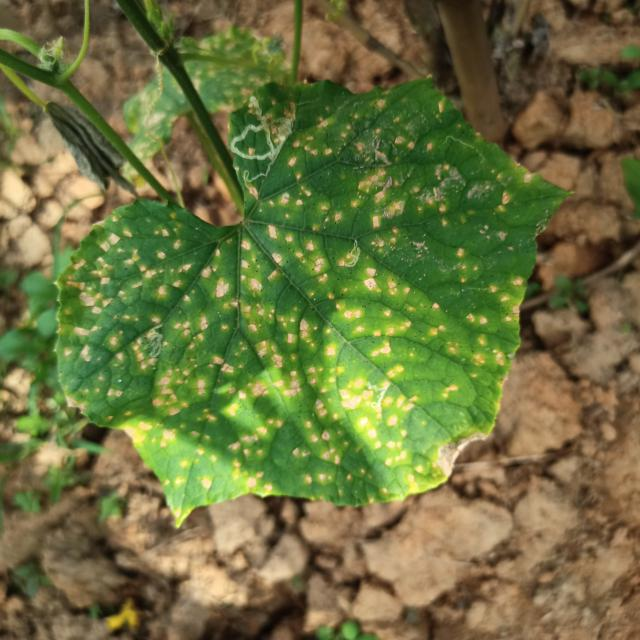disease_cucumber: (72, 110, 514, 492)
